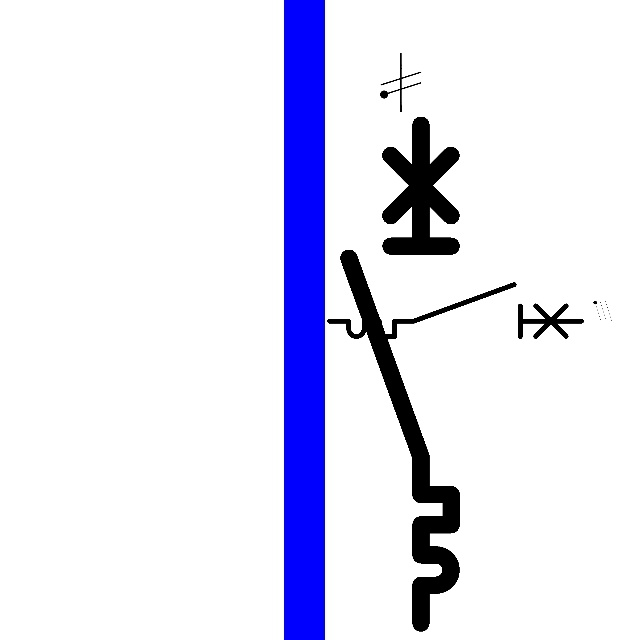interruptor_termomagnetico: (336, 112, 464, 635), (323, 278, 588, 343)
